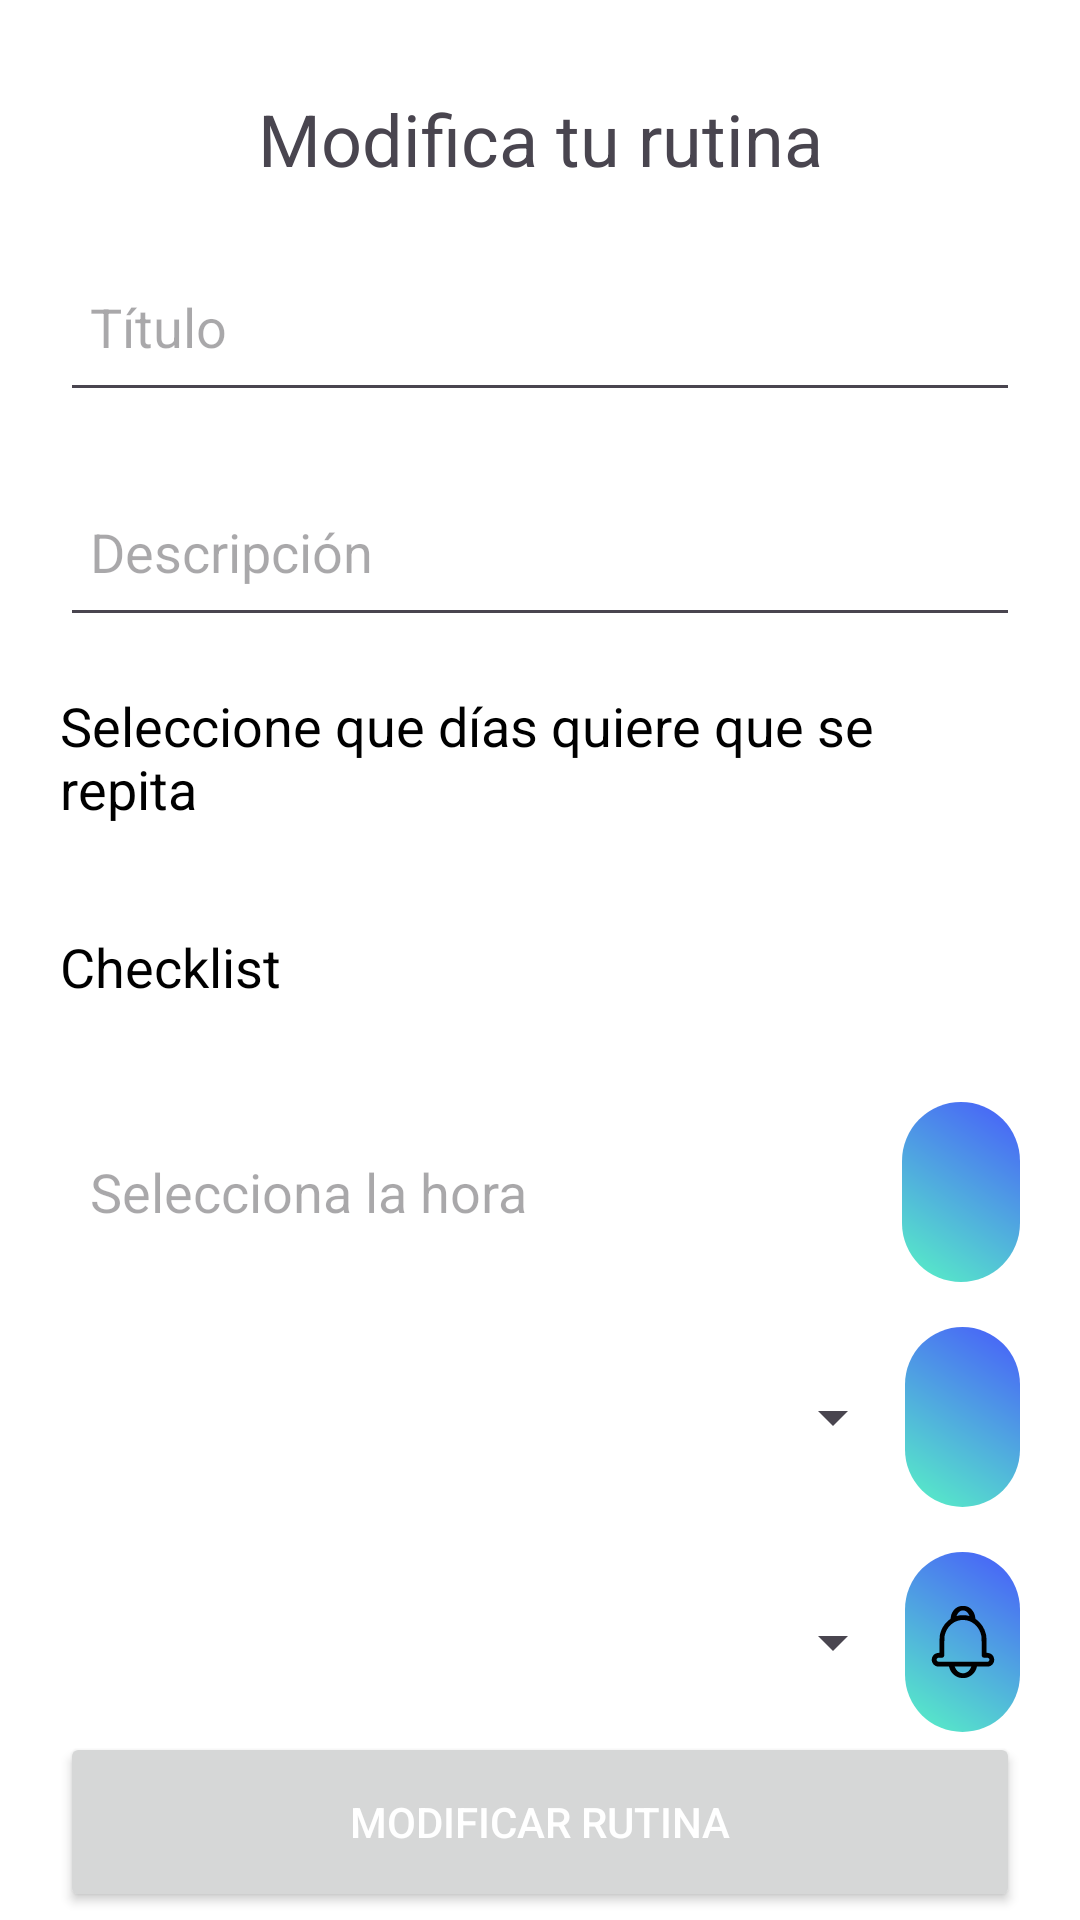

Icon click points for this 1080px x 1920px phone screenshot, format [x,y]:
Recordatorio: [962,1642]
